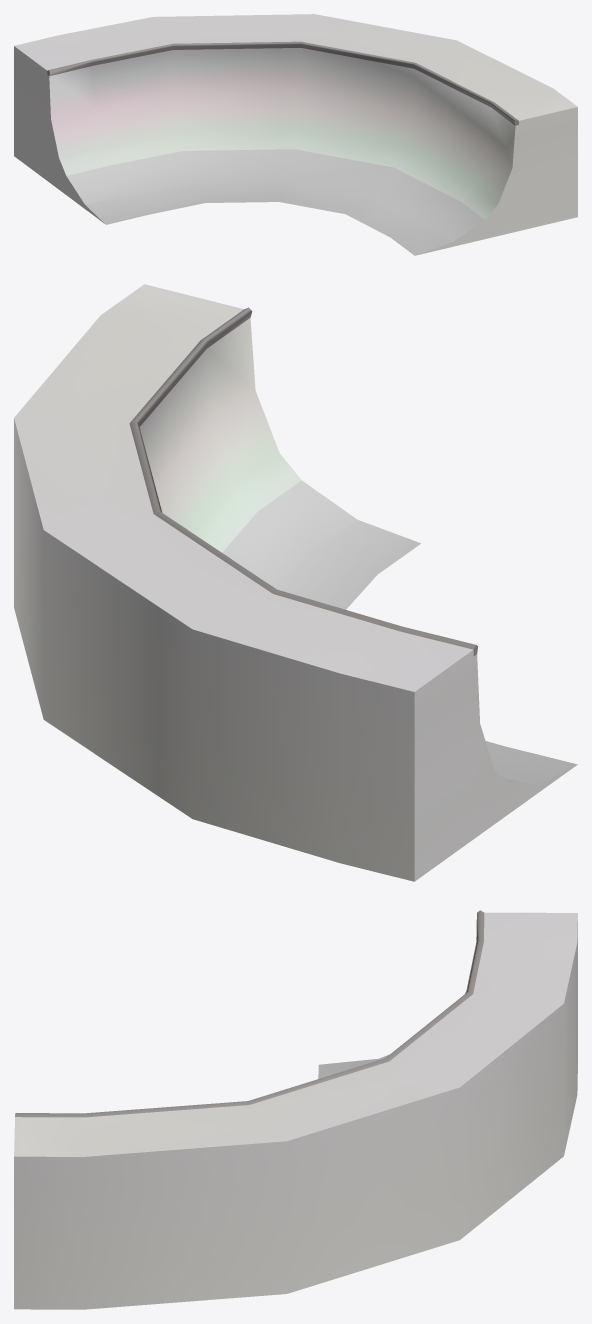
Rendered from SkateboardVertWallCurvedCement.glb.
3 renders of one model, top to bottom at view 1: azimuth 30°, elevation 25°; view 2: azimuth 150°, elevation 25°; view 3: azimuth 270°, elevation 25°, orthographic. The views are drawn at different scales.
Visible parts, largest first — view 1: SkateboardVertWallCurvedCement; view 2: SkateboardVertWallCurvedCement; view 3: SkateboardVertWallCurvedCement.
Boxes of the visible parts, box(x1,y1,x2,y2) form: SkateboardVertWallCurvedCement: box(14, 14, 577, 255); SkateboardVertWallCurvedCement: box(14, 284, 577, 881); SkateboardVertWallCurvedCement: box(14, 910, 577, 1309).
Bounding box in the file's own units: 11.18 × 3.3 × 10.87.
Materials: 1 (1 with a texture image).
